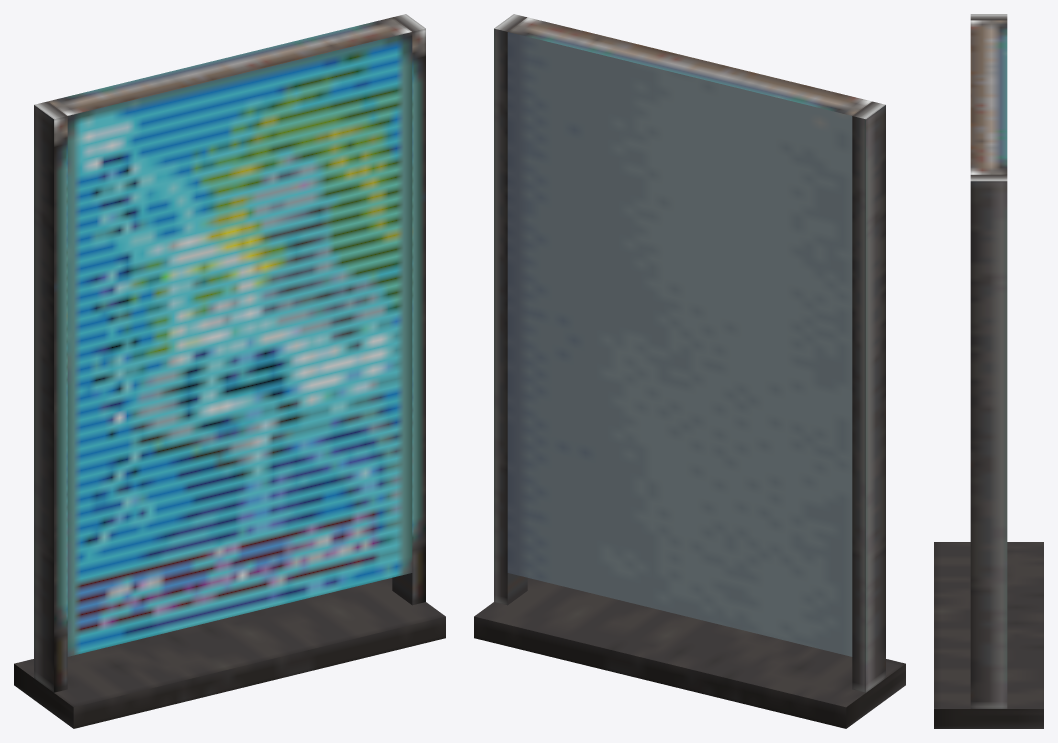
Rendered from Poly_SF_Outside_B_Digital_Signage_03.obj.
3 renders of one model, left to right at view 1: azimuth 30°, elevation 25°; view 2: azimuth 150°, elevation 25°; view 3: azimuth 270°, elevation 25°, orthographic. The views are drawn at different scales.
Parts seen in each view (by area): view 1: Cube.001, Cube.002, Cube.003; view 2: Cube.001, Cube.002, Cube.003; view 3: Cube.002, Cube.003, Cube.001.
Boxes of the visible parts, x1,y1,x2,y2 form: Cube.001: (48,17,412,656); Cube.002: (34,14,425,692); Cube.003: (14,578,445,728); Cube.001: (507,17,871,656); Cube.002: (494,14,885,692); Cube.003: (474,578,905,728); Cube.002: (970,14,1007,708); Cube.003: (934,542,1043,728); Cube.001: (970,20,1007,174).
Size of the model in its own units: 1.08 by 1.65 by 0.3.
Materials: 1 (1 with a texture image).
